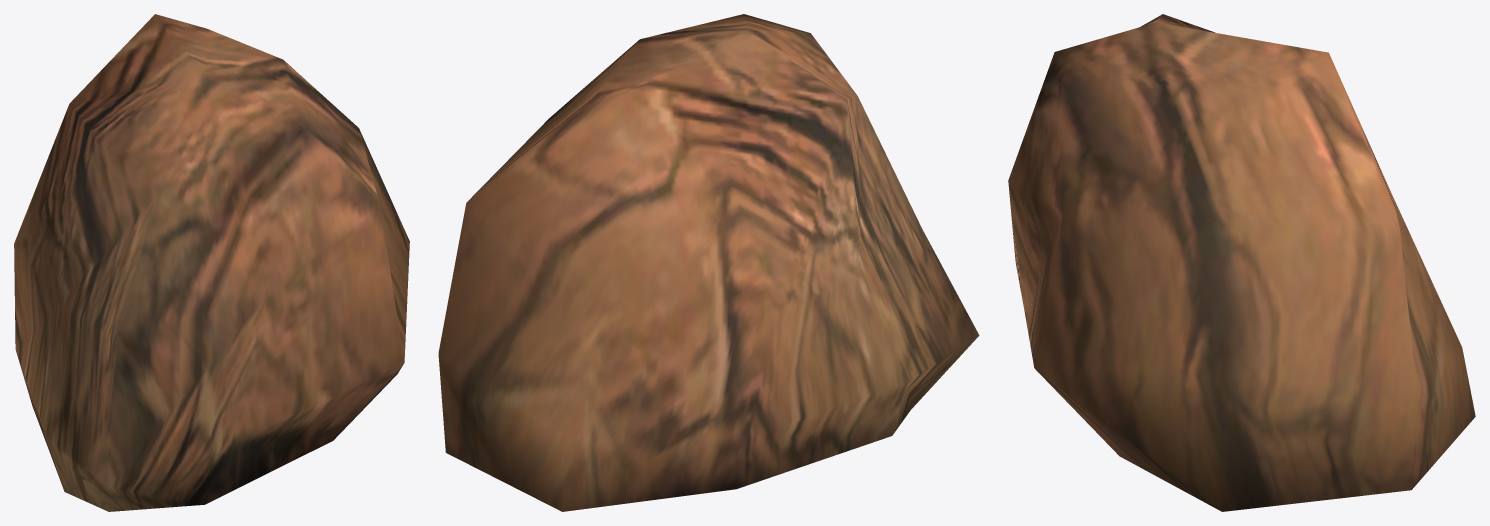
Rendered from M3_Boulder4.glb.
3 renders of one model, left to right at view 1: azimuth 30°, elevation 25°; view 2: azimuth 150°, elevation 25°; view 3: azimuth 270°, elevation 25°, orthographic.
Visible parts, largest first — view 1: M3_BOULDER4; view 2: M3_BOULDER4; view 3: M3_BOULDER4.
Part boxes in pixels (x1,y1,x2,y2): M3_BOULDER4: [14, 14, 409, 511]; M3_BOULDER4: [438, 14, 979, 511]; M3_BOULDER4: [1008, 14, 1475, 511].
Size of the model in its own units: 1.05 by 0.968 by 1.08.
1 material, 1 textured.
